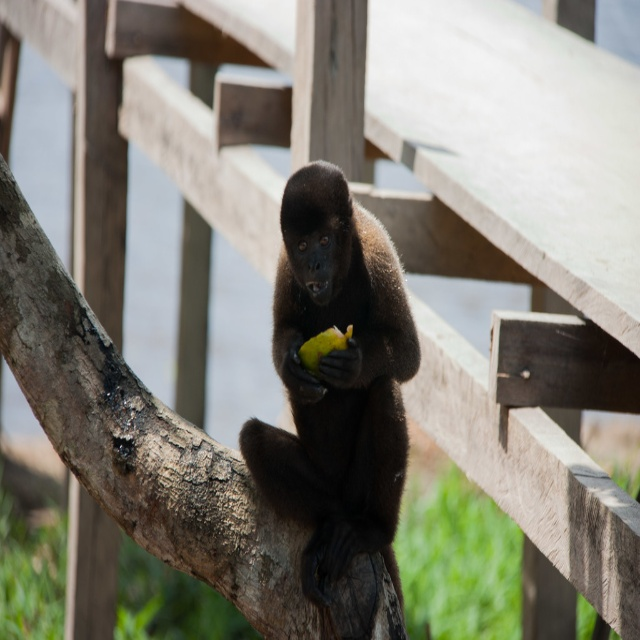Monkey: (230, 161, 430, 612)
